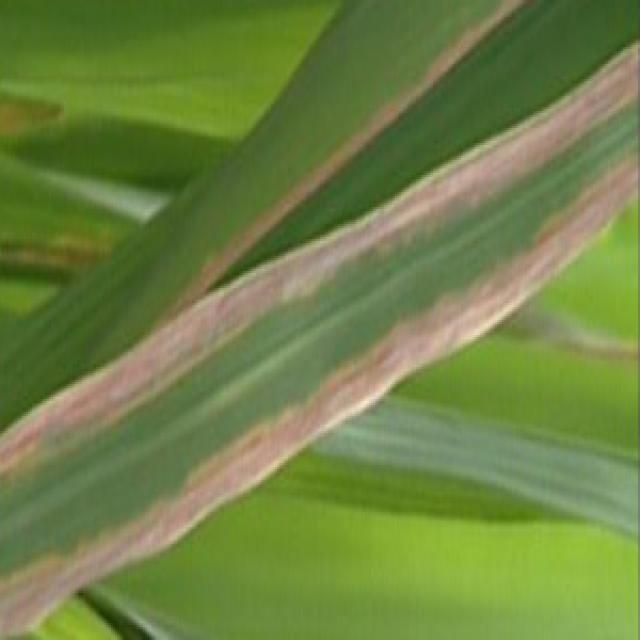Bacterial_Blight: (0, 31, 640, 640), (161, 0, 531, 320)
